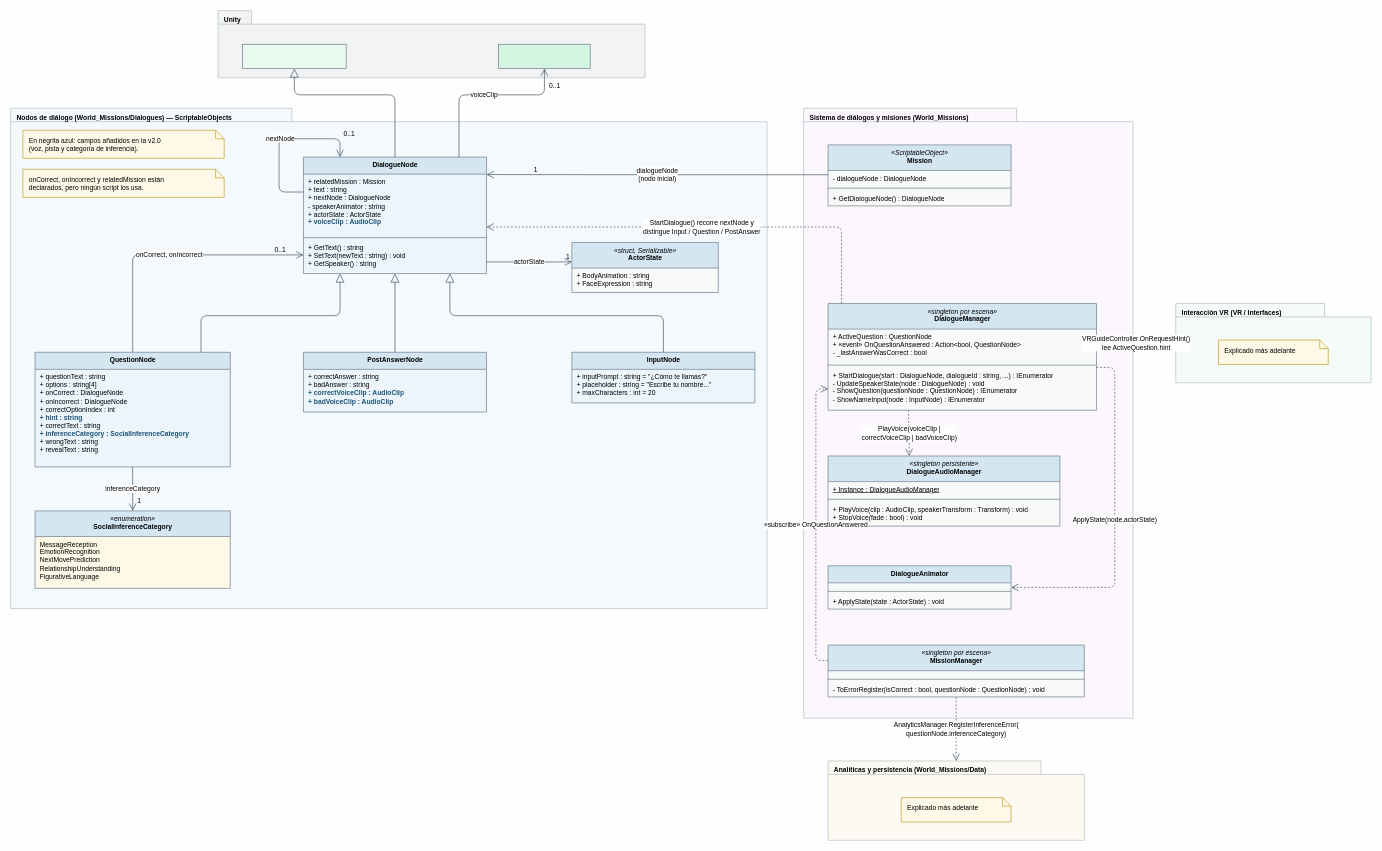
Image size: 1382x851. Some labels were removed from this diagram. Each missing label, with the centre of its shape:
"AudioClip" belongs at pixel 544 56.
"ScriptableObject" belongs at pixel 294 56.
